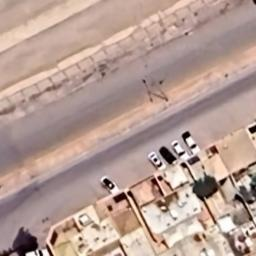sedan: (96, 175, 124, 196), (178, 130, 202, 154), (144, 150, 168, 170), (168, 140, 192, 160)
unknown: (156, 142, 178, 167), (22, 246, 54, 256)
